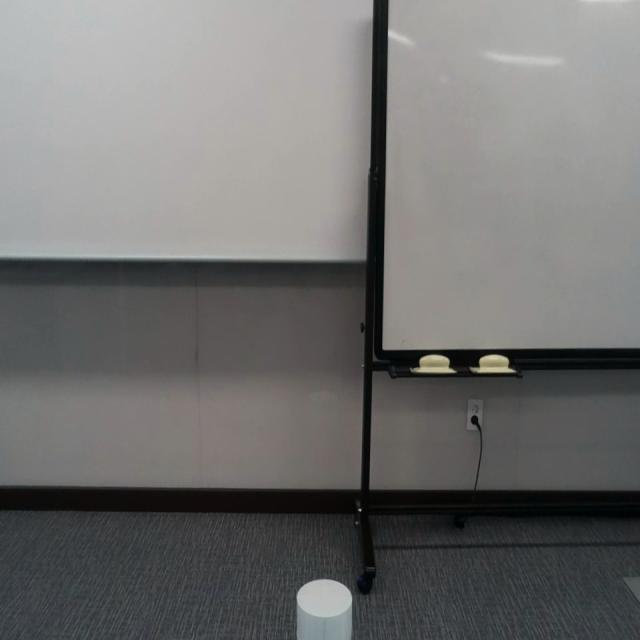cylinder: (295, 579, 352, 640)
